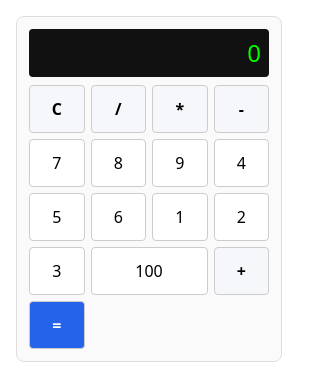
Test: Calculator component › C でリセット
The image size is (320, 379).
Click the button "7" at (57, 163), box x1=29 y1=139 x2=84 y2=187
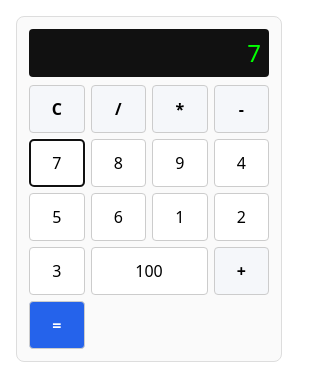
Click the button "C" at (57, 109), box x1=29 y1=85 x2=84 y2=133
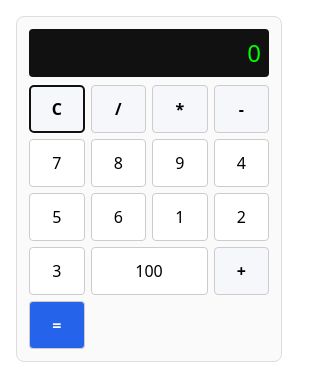
expect the text "0" is shown: met, box x1=247 y1=35 x2=261 y2=71
